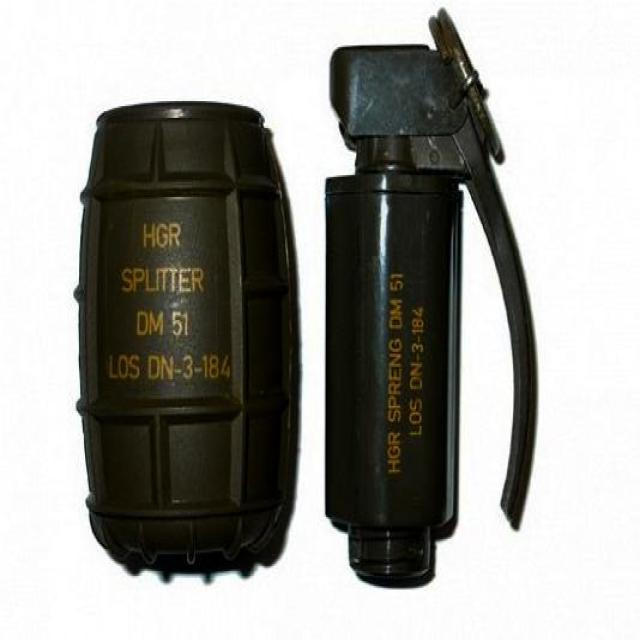grenade: (325, 8, 538, 580), (74, 102, 301, 567)
